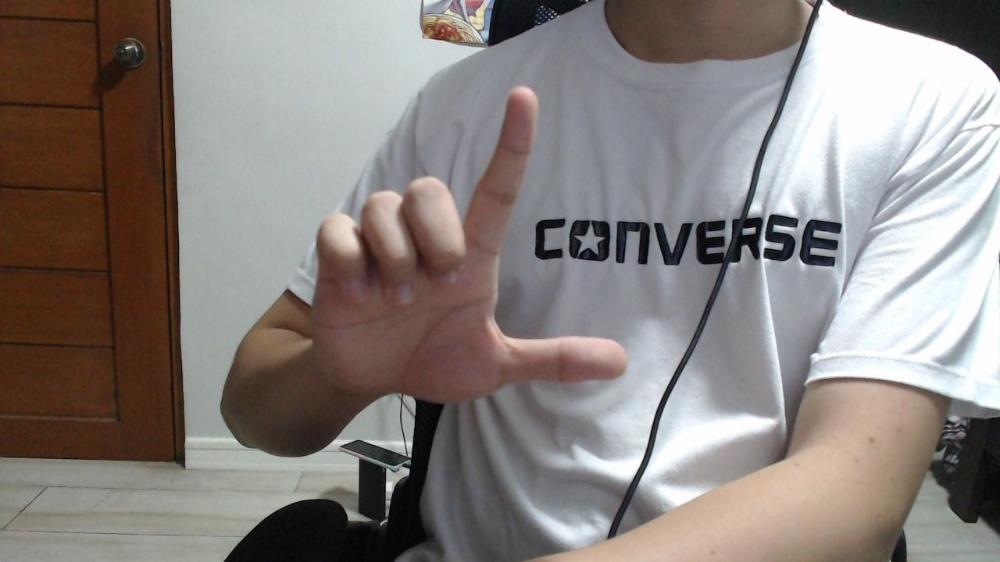l: (311, 86, 625, 402)
